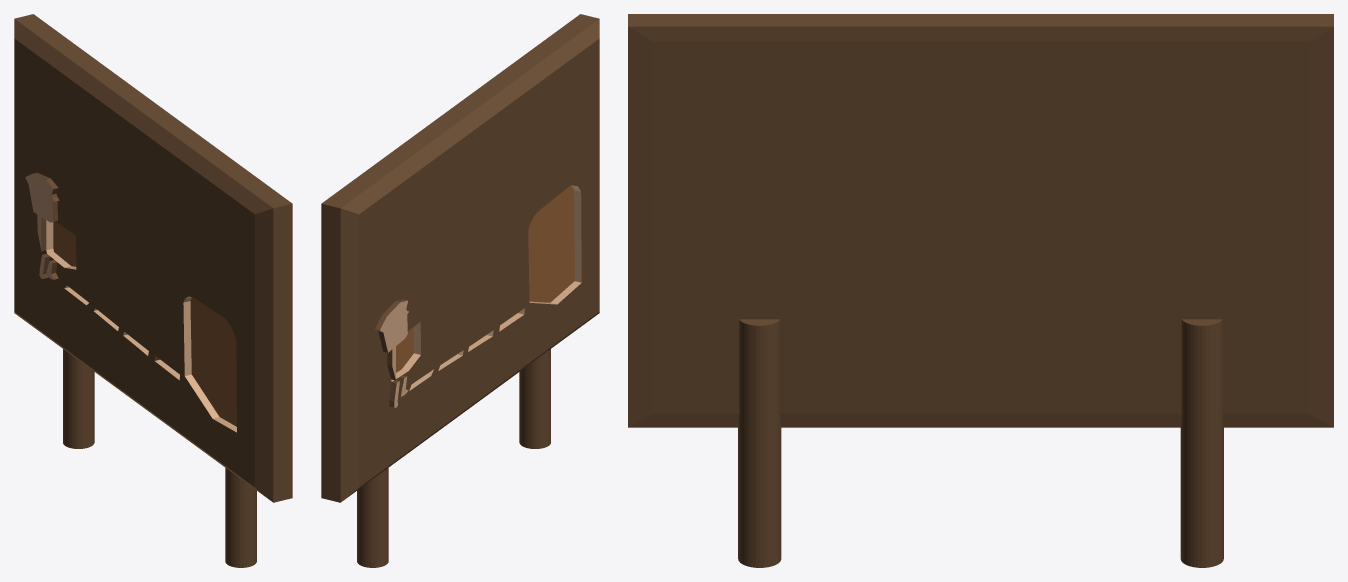
Rendered from DeliverySign.fbx.
3 renders of one model, left to right at view 1: azimuth 30°, elevation 25°; view 2: azimuth 150°, elevation 25°; view 3: azimuth 270°, elevation 25°, orthographic. The views are drawn at different scales.
Parts seen in each view (by area): view 1: Cube.002, Cylinder.001, Cylinder; view 2: Cube.002, Cylinder, Cylinder.001; view 3: Cube.002, Cylinder, Cylinder.001.
Boxes of the visible parts, x1,y1,x2,y2 form: Cube.002: (14,14,292,502); Cylinder.001: (225,468,256,567); Cylinder: (63,349,94,448); Cube.002: (321,14,599,502); Cylinder: (357,468,388,567); Cylinder.001: (519,349,550,448); Cube.002: (628,14,1333,427); Cylinder: (1180,319,1223,567); Cylinder.001: (738,319,781,567).
Bounding box in the file's own units: 31.27 × 266 × 319.
